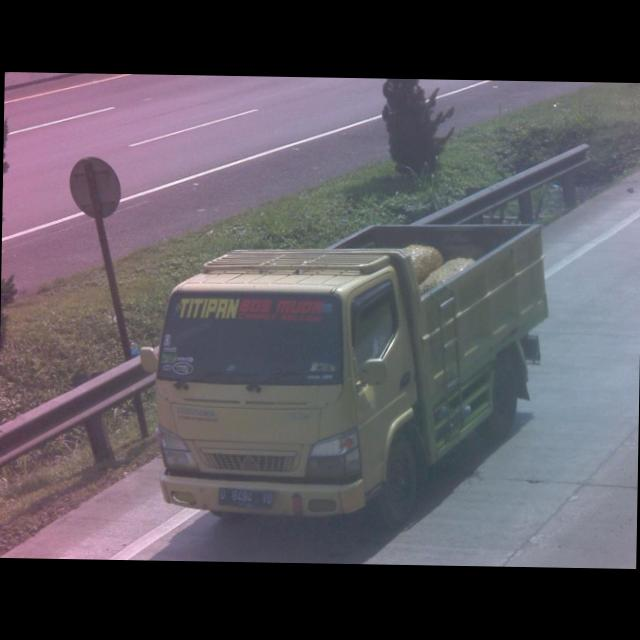plate: (214, 484, 275, 508)
